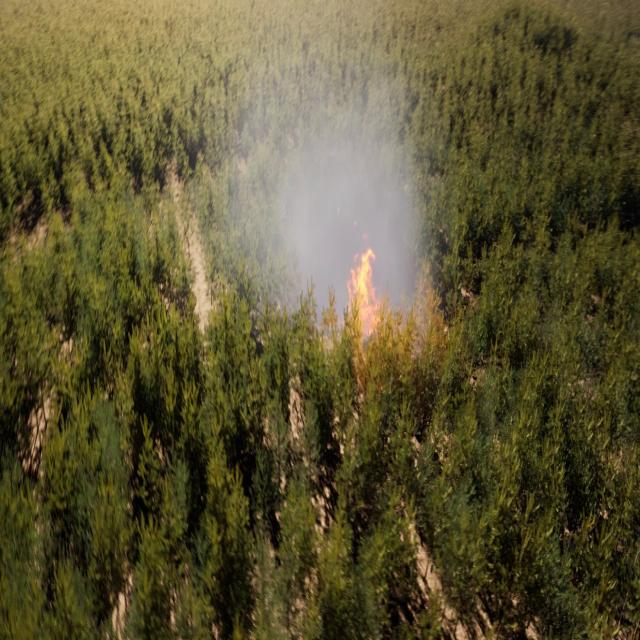fire: (335, 230, 401, 342)
smoke: (194, 14, 440, 352)
